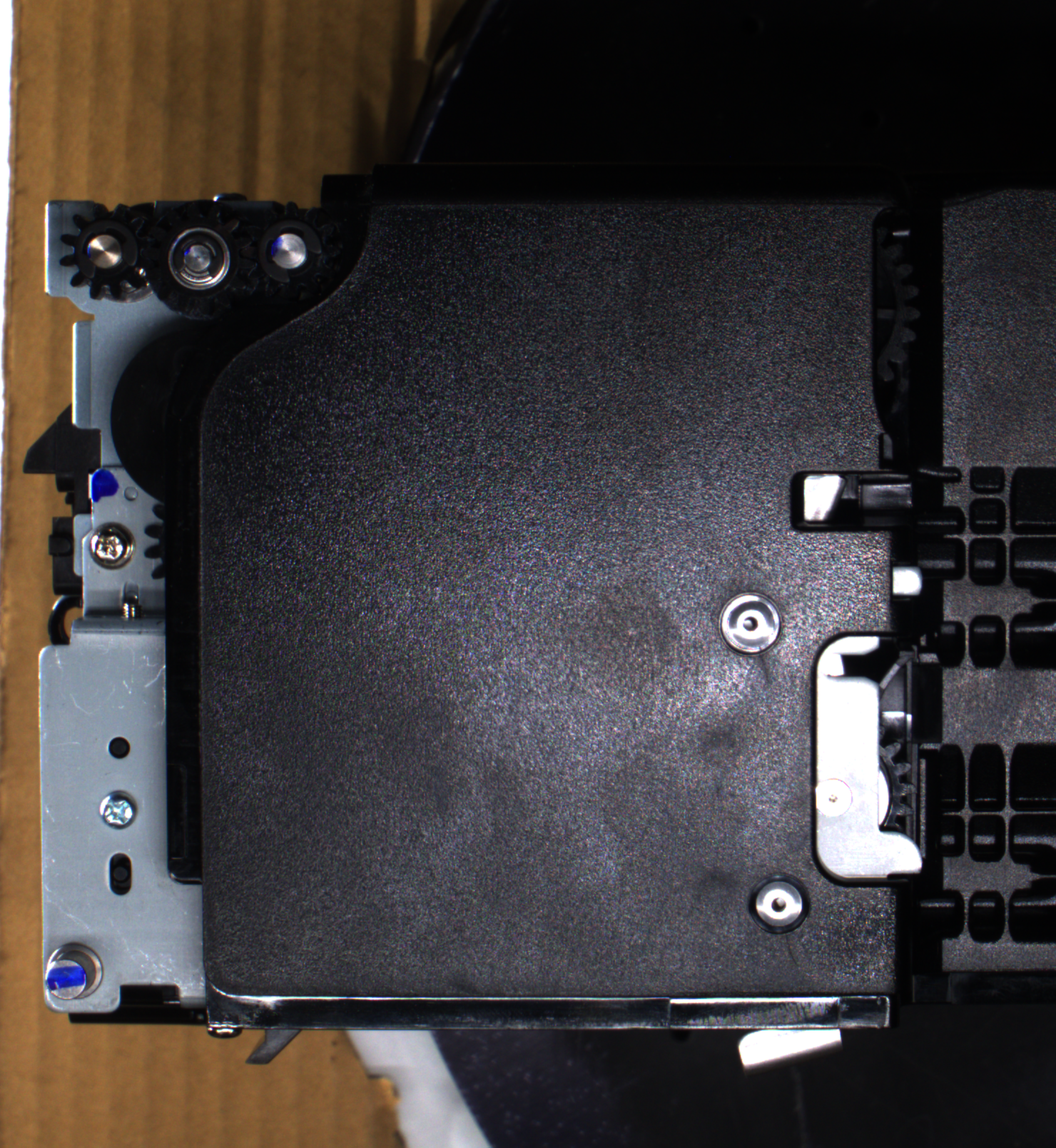centre_pin_presence: (730, 1013, 850, 1077)
centre_plate_presence: (805, 626, 934, 891)
centre_screw_presence: (715, 587, 786, 662), (742, 866, 813, 939)
gear1_presence: (57, 199, 158, 306)
gear2_presence: (144, 199, 258, 320)
gear3_presence: (237, 200, 339, 304)
side_screw_presence: (84, 520, 137, 571), (95, 785, 140, 833)
slanting_pin_presence: (39, 939, 111, 1009)
